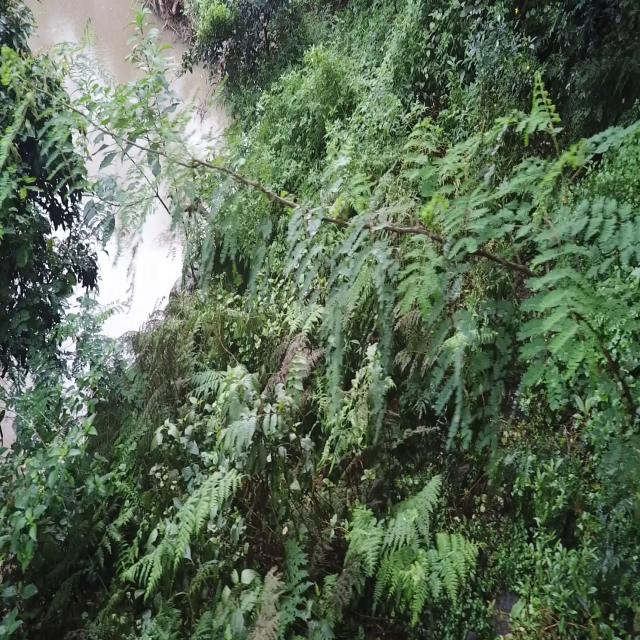Mysore-Thorn-Weed: (294, 73, 638, 442), (0, 0, 282, 305)
